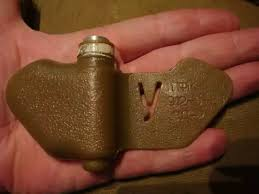butterfly: (3, 32, 240, 179)
